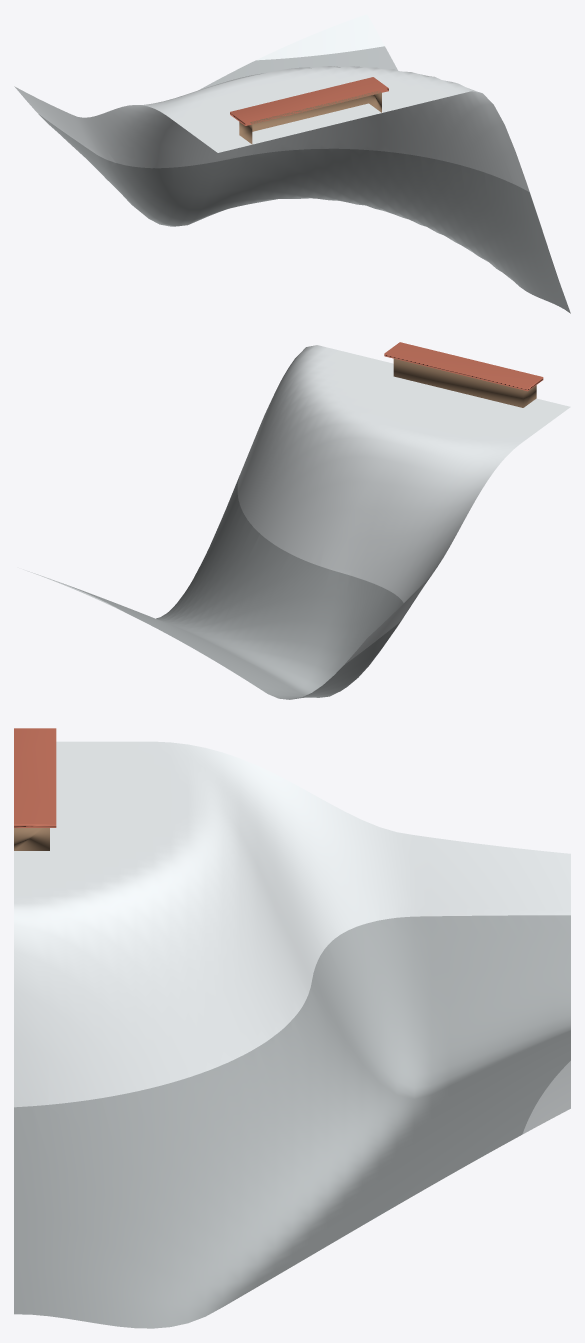
The model's file is alpine-13-11.glb.
3 views of the same model, one above another, from view 1: azimuth 30°, elevation 25°; view 2: azimuth 150°, elevation 25°; view 3: azimuth 270°, elevation 25° (orthographic). The views are drawn at different scales.
Parts seen in each view (by area): view 1: alpine-13-11; view 2: alpine-13-11; view 3: alpine-13-11.
Boxes of the visible parts, x1=… form: alpine-13-11: x1=14, y1=14, x2=570, y2=313; alpine-13-11: x1=23, y1=342, x2=570, y2=699; alpine-13-11: x1=14, y1=728, x2=570, y2=1328.
Size of the model in its own units: 256 by 194 by 256.
Materials: 4 (4 with a texture image).
